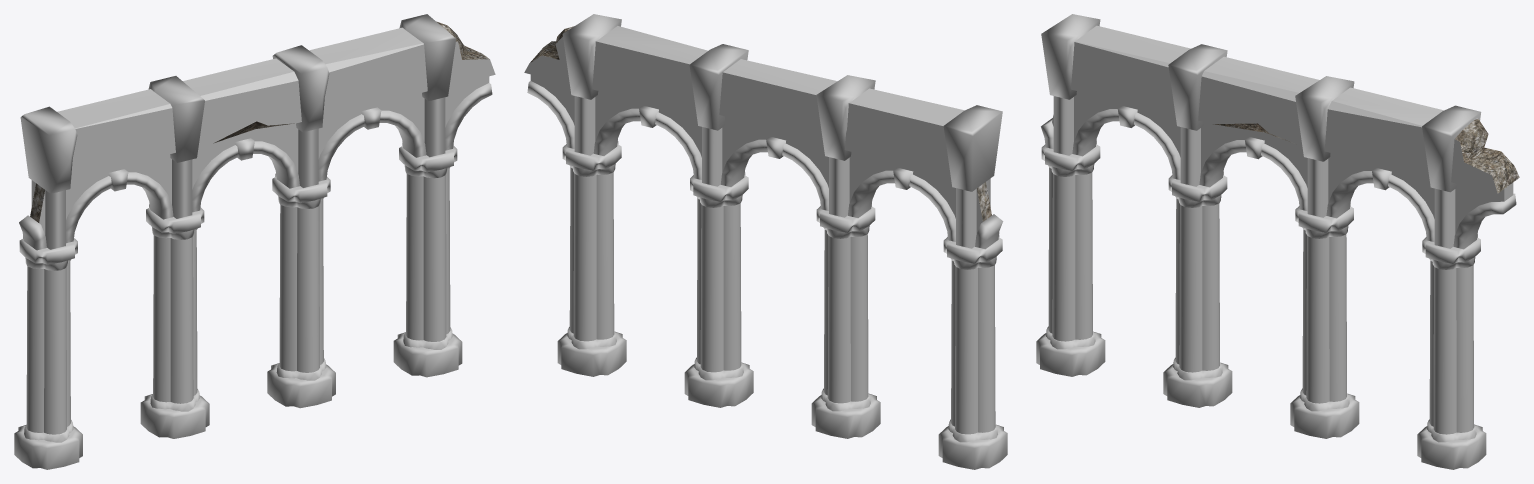
File: Ruins_14.fbx
3 views of the same model, side by side, from view 1: azimuth 30°, elevation 25°; view 2: azimuth 150°, elevation 25°; view 3: azimuth 330°, elevation 25° (orthographic).
Parts seen in each view (by area): view 1: polySurface2906; view 2: polySurface2906; view 3: polySurface2906.
Part boxes in pixels (x1=…): polySurface2906: x1=14, y1=14, x2=495, y2=469; polySurface2906: x1=524, y1=14, x2=1007, y2=469; polySurface2906: x1=1036, y1=14, x2=1519, y2=469.
Size of the model in its own units: 9.71 by 6.74 by 1.12.
